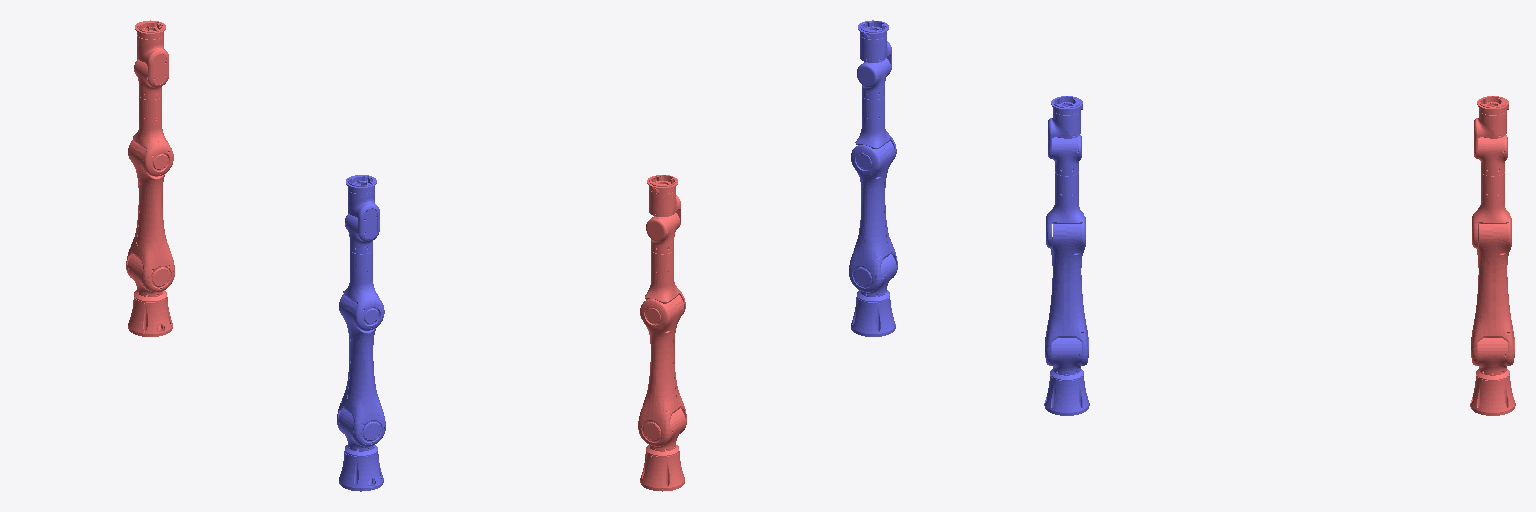
robot.urdf — dual_arm620:
<?xml version="1.0" encoding="utf-8"?>
<robot name="dual_arm620">

  <!-- World link -->
  <link name="world"/>

  <!-- ========== 左臂 (Left Arm) ========== -->
  <!-- 左臂基座 -->
  <link name="left_base_link">
    <visual>
      <origin xyz="0 0 0" rpy="0 0 0" />
      <geometry>
        <mesh filename="package://robot_description/meshes/arm620/base_link.STL" />
      </geometry>
      <material name="">
        <color rgba="0.5 0.5 1 1" />
      </material>
    </visual>
    <collision>
      <origin xyz="0 0 0" rpy="0 0 0" />
      <geometry>
        <mesh filename="package://robot_description/meshes/arm620/base_link.STL" />
      </geometry>
    </collision>
    <inertial>
      <origin xyz="1.87450927250337E-06 0.00181524829320902 0.0292921603078834" rpy="0 0 0" />
      <mass value="0.170880634330369" />
      <inertia
        ixx="0.000229347645280298"
        ixy="1.61599294610908E-08"
        ixz="4.7513827953779E-09"
        iyy="0.000240285227629261"
        iyz="4.75812244440811E-06"
        izz="0.000302923360069409" />
    </inertial>
  </link>

  <link name="left_Link1">
    <visual>
      <origin xyz="0 0 0" rpy="0 0 0" />
      <geometry>
        <mesh filename="package://robot_description/meshes/arm620/Link1.STL" />
      </geometry>
      <material name="">
        <color rgba="0.5 0.5 1 1" />
      </material>
    </visual>
    <collision>
      <origin xyz="0 0 0" rpy="0 0 0" />
      <geometry>
        <mesh filename="package://robot_description/meshes/arm620/Link1.STL" />
      </geometry>
    </collision>
    <inertial>
      <origin xyz="-0.00543360845091959 -1.84239302827209E-07 0.0550553220027922" rpy="0 0 0" />
      <mass value="0.151006149586524" />
      <inertia
        ixx="0.000215056936605856"
        ixy="-2.64732122422687E-09"
        ixz="-6.12933911087815E-06"
        iyy="0.00016424143039212"
        iyz="2.4545362355509E-09"
        izz="0.000153914266842238" />
    </inertial>
  </link>

  <link name="left_Link2">
    <visual>
      <origin xyz="0 0 0" rpy="0 0 0" />
      <geometry>
        <mesh filename="package://robot_description/meshes/arm620/Link2.STL" />
      </geometry>
      <material name="">
        <color rgba="0.5 0.5 1 1" />
      </material>
    </visual>
    <collision>
      <origin xyz="0 0 0" rpy="0 0 0" />
      <geometry>
        <mesh filename="package://robot_description/meshes/arm620/Link2.STL" />
      </geometry>
    </collision>
    <inertial>
      <origin xyz="3.58002762885841E-07 0.137642100574428 -0.0363153154927349" rpy="0 0 0" />
      <mass value="0.343463687955357" />
      <inertia
        ixx="0.00445993608731396"
        ixy="2.50197463653835E-08"
        ixz="-5.37531747791493E-09"
        iyy="0.00025018277432589"
        iyz="3.43689813831552E-05"
        izz="0.00459396075839913" />
    </inertial>
  </link>

  <link name="left_Link3">
    <visual>
      <origin xyz="0 0 0" rpy="0 0 0" />
      <geometry>
        <mesh filename="package://robot_description/meshes/arm620/Link3.STL" />
      </geometry>
      <material name="">
        <color rgba="0.5 0.5 1 1" />
      </material>
    </visual>
    <collision>
      <origin xyz="0 0 0" rpy="0 0 0" />
      <geometry>
        <mesh filename="package://robot_description/meshes/arm620/Link3.STL" />
      </geometry>
    </collision>
    <inertial>
      <origin xyz="1.48206810827003E-06 -0.0510068038969784 -0.0206430915439547" rpy="0 0 0" />
      <mass value="0.13198857635385" />
      <inertia
        ixx="0.000162762137088808"
        ixy="1.41413208376811E-08"
        ixz="-1.34298095947657E-09"
        iyy="0.000116327773462969"
        iyz="-3.06018943581844E-05"
        izz="0.000155122779958364" />
    </inertial>
  </link>

  <link name="left_Link4">
    <collision>
      <origin xyz="0 0 0" rpy="0 0 0" />
      <geometry>
        <mesh filename="package://robot_description/meshes/arm620/Link4.STL" />
      </geometry>
    </collision>
    <inertial>
      <origin xyz="-6.02521247008215E-05 7.99748324407948E-06 0.0453780771462012" rpy="0 0 0" />
      <mass value="0.0765381851810229" />
      <inertia
        ixx="6.04592142795382E-05"
        ixy="2.67147905680342E-09"
        ixz="-4.08931227982265E-06"
        iyy="5.96855208658282E-05"
        iyz="7.33475383624008E-09"
        izz="5.30534683558546E-05" />
    </inertial>
    <visual>
      <origin xyz="0 0 0" rpy="0 0 0" />
      <geometry>
        <mesh filename="package://robot_description/meshes/arm620/Link4.STL" />
      </geometry>
      <material name="">
        <color rgba="0.5 0.5 1 1" />
      </material>
    </visual>
  </link>

  <link name="left_Link5">
    <visual>
      <origin xyz="0 0 0" rpy="0 0 0" />
      <geometry>
        <mesh filename="package://robot_description/meshes/arm620/Link5.STL" />
      </geometry>
      <material  name="">
        <color rgba="0.5 0.5 1 1" />
      </material>
    </visual>
    <collision>
      <origin xyz="0 0 0" rpy="0 0 0" />
      <geometry>
        <mesh filename="package://robot_description/meshes/arm620/Link5.STL" />
      </geometry>
    </collision>
    <inertial>
      <origin xyz="-0.0520592124509015 -2.62557740618274E-06 -0.0198554732405326" rpy="0 0 0" />
      <mass value="0.0788266395013992" />
      <inertia
        ixx="6.87608587505673E-05"
        ixy="-1.27953066866412E-07"
        ixz="-2.0529870699655E-05"
        iyy="9.21461269028329E-05"
        iyz="2.70889288147051E-09"
        izz="8.42321668969337E-05" />
    </inertial>
  </link>

  <link name="left_Link6">
    <visual>
      <origin xyz="0 0 0" rpy="0 0 0" />
      <geometry>
        <mesh filename="package://robot_description/meshes/arm620/Link6.STL" />
      </geometry>
      <material name="">
        <color rgba="0.5 0.5 1 1" />
      </material>
    </visual>
    <collision>
      <origin xyz="0 0 0" rpy="0 0 0" />
      <geometry>
        <mesh filename="package://robot_description/meshes/arm620/Link6.STL" />
      </geometry>
    </collision>
    <inertial>
      <origin xyz="-0.00364670394665961 0.00151801994573188 0.0107785859589165" rpy="0 0 0" />
      <mass value="0.0321450880318068" />
      <inertia
        ixx="1.28602924359454E-05"
        ixy="-1.21512878921806E-07"
        ixz="2.23984093399708E-07"
        iyy="1.33081087923213E-05"
        iyz="-6.82451208171747E-08"
        izz="2.41834039786456E-05" />
    </inertial>
  </link>

  <!-- 左臂关节连接 -->
  <joint name="left_base_joint" type="fixed">
      <parent link="world"/>
      <child link="left_base_link"/>
      <!-- 左臂位于Y轴负方向，距离world坐标系0.5米 -->
      <origin xyz="0 -0.5 0" rpy="0 0 0" />
      <axis xyz="0 0 1" />
  </joint>

  <joint name="left_joint1" type="revolute">
    <origin xyz="0 0 0.084" rpy="0 0 -1.5708" />
    <parent link="left_base_link" />
    <child link="left_Link1" />
    <axis xyz="0 0 1" />
    <limit lower="-2.9670" upper="2.9670" effort="49" velocity="3.14" />
  </joint>

  <joint name="left_joint2" type="revolute">
    <origin xyz="0.035 0 0.06875" rpy="1.5708 0 1.5708" />
    <parent link="left_Link1" />
    <child link="left_Link2" />
    <axis xyz="0 0 1" />
    <limit lower="-1.5708" upper="1.5708" effort="49" velocity="3.14" />
  </joint>

  <joint name="left_joint3" type="revolute">
    <origin xyz="0 0.30025 -0.00093497" rpy="0 0 3.1416" />
    <parent link="left_Link2" />
    <child link="left_Link3" />
    <axis xyz="0 0 1" />
    <limit lower="-1.5708" upper="1.5708" effort="49" velocity="3.14" />
  </joint>

  <joint name="left_joint4" type="revolute">
    <origin xyz="0 -0.15558 -0.03403" rpy="1.5708 -1.5708 0" />
    <parent link="left_Link3" />
    <child link="left_Link4" />
    <axis xyz="0 0 1" />
    <limit lower="-2.9670" upper="2.9670" effort="9" velocity="3.14" />
  </joint>

  <joint name="left_joint5" type="revolute">
    <origin xyz="0.034548 2.0477E-05 0.064223" rpy="9.5457E-05 1.5708 0.00060723" />
    <parent link="left_Link4" />
    <child link="left_Link5" />
    <axis xyz="0 0 1" />
    <limit lower="-1.5708" upper="1.5708" effort="9" velocity="3.14" />
  </joint>

  <joint name="left_joint6" type="revolute">
    <origin xyz="-0.095552 0 -0.034587" rpy="1.5708 -1.5703 -1.5708" />
    <parent link="left_Link5" />
    <child link="left_Link6" />
    <axis xyz="0 0 1" />
    <limit lower="-2.9670" upper="2.9670" effort="9" velocity="3.14" />
  </joint>


  <!-- ========== 右臂 (Right Arm) ========== -->
  <!-- 右臂基座 -->
  <link name="right_base_link">
    <visual>
      <origin xyz="0 0 0" rpy="0 0 0" />
      <geometry>
        <mesh filename="package://robot_description/meshes/arm620/base_link.STL" />
      </geometry>
      <material name="">
        <color rgba="1 0.5 0.5 1" />
      </material>
    </visual>
    <collision>
      <origin xyz="0 0 0" rpy="0 0 0" />
      <geometry>
        <mesh filename="package://robot_description/meshes/arm620/base_link.STL" />
      </geometry>
    </collision>
    <inertial>
      <origin xyz="1.87450927250337E-06 0.00181524829320902 0.0292921603078834" rpy="0 0 0" />
      <mass value="0.170880634330369" />
      <inertia
        ixx="0.000229347645280298"
        ixy="1.61599294610908E-08"
        ixz="4.7513827953779E-09"
        iyy="0.000240285227629261"
        iyz="4.75812244440811E-06"
        izz="0.000302923360069409" />
    </inertial>
  </link>

  <link name="right_Link1">
    <visual>
      <origin xyz="0 0 0" rpy="0 0 0" />
      <geometry>
        <mesh filename="package://robot_description/meshes/arm620/Link1.STL" />
      </geometry>
      <material name="">
        <color rgba="1 0.5 0.5 1" />
      </material>
    </visual>
    <collision>
      <origin xyz="0 0 0" rpy="0 0 0" />
      <geometry>
        <mesh filename="package://robot_description/meshes/arm620/Link1.STL" />
      </geometry>
    </collision>
    <inertial>
      <origin xyz="-0.00543360845091959 -1.84239302827209E-07 0.0550553220027922" rpy="0 0 0" />
      <mass value="0.151006149586524" />
      <inertia
        ixx="0.000215056936605856"
        ixy="-2.64732122422687E-09"
        ixz="-6.12933911087815E-06"
        iyy="0.00016424143039212"
        iyz="2.4545362355509E-09"
        izz="0.000153914266842238" />
    </inertial>
  </link>

  <link name="right_Link2">
    <visual>
      <origin xyz="0 0 0" rpy="0 0 0" />
      <geometry>
        <mesh filename="package://robot_description/meshes/arm620/Link2.STL" />
      </geometry>
      <material name="">
        <color rgba="1 0.5 0.5 1" />
      </material>
    </visual>
    <collision>
      <origin xyz="0 0 0" rpy="0 0 0" />
      <geometry>
        <mesh filename="package://robot_description/meshes/arm620/Link2.STL" />
      </geometry>
    </collision>
    <inertial>
      <origin xyz="3.58002762885841E-07 0.137642100574428 -0.0363153154927349" rpy="0 0 0" />
      <mass value="0.343463687955357" />
      <inertia
        ixx="0.00445993608731396"
        ixy="2.50197463653835E-08"
        ixz="-5.37531747791493E-09"
        iyy="0.00025018277432589"
        iyz="3.43689813831552E-05"
        izz="0.00459396075839913" />
    </inertial>
  </link>

  <link name="right_Link3">
    <visual>
      <origin xyz="0 0 0" rpy="0 0 0" />
      <geometry>
        <mesh filename="package://robot_description/meshes/arm620/Link3.STL" />
      </geometry>
      <material name="">
        <color rgba="1 0.5 0.5 1" />
      </material>
    </visual>
    <collision>
      <origin xyz="0 0 0" rpy="0 0 0" />
      <geometry>
        <mesh filename="package://robot_description/meshes/arm620/Link3.STL" />
      </geometry>
    </collision>
    <inertial>
      <origin xyz="1.48206810827003E-06 -0.0510068038969784 -0.0206430915439547" rpy="0 0 0" />
      <mass value="0.13198857635385" />
      <inertia
        ixx="0.000162762137088808"
        ixy="1.41413208376811E-08"
        ixz="-1.34298095947657E-09"
        iyy="0.000116327773462969"
        iyz="-3.06018943581844E-05"
        izz="0.000155122779958364" />
    </inertial>
  </link>

  <link name="right_Link4">
    <collision>
      <origin xyz="0 0 0" rpy="0 0 0" />
      <geometry>
        <mesh filename="package://robot_description/meshes/arm620/Link4.STL" />
      </geometry>
    </collision>
    <inertial>
      <origin xyz="-6.02521247008215E-05 7.99748324407948E-06 0.0453780771462012" rpy="0 0 0" />
      <mass value="0.0765381851810229" />
      <inertia
        ixx="6.04592142795382E-05"
        ixy="2.67147905680342E-09"
        ixz="-4.08931227982265E-06"
        iyy="5.96855208658282E-05"
        iyz="7.33475383624008E-09"
        izz="5.30534683558546E-05" />
    </inertial>
    <visual>
      <origin xyz="0 0 0" rpy="0 0 0" />
      <geometry>
        <mesh filename="package://robot_description/meshes/arm620/Link4.STL" />
      </geometry>
      <material name="">
        <color rgba="1 0.5 0.5 1" />
      </material>
    </visual>
  </link>

  <link name="right_Link5">
    <visual>
      <origin xyz="0 0 0" rpy="0 0 0" />
      <geometry>
        <mesh filename="package://robot_description/meshes/arm620/Link5.STL" />
      </geometry>
      <material  name="">
        <color rgba="1 0.5 0.5 1" />
      </material>
    </visual>
    <collision>
      <origin xyz="0 0 0" rpy="0 0 0" />
      <geometry>
        <mesh filename="package://robot_description/meshes/arm620/Link5.STL" />
      </geometry>
    </collision>
    <inertial>
      <origin xyz="-0.0520592124509015 -2.62557740618274E-06 -0.0198554732405326" rpy="0 0 0" />
      <mass value="0.0788266395013992" />
      <inertia
        ixx="6.87608587505673E-05"
        ixy="-1.27953066866412E-07"
        ixz="-2.0529870699655E-05"
        iyy="9.21461269028329E-05"
        iyz="2.70889288147051E-09"
        izz="8.42321668969337E-05" />
    </inertial>
  </link>

  <link name="right_Link6">
    <visual>
      <origin xyz="0 0 0" rpy="0 0 0" />
      <geometry>
        <mesh filename="package://robot_description/meshes/arm620/Link6.STL" />
      </geometry>
      <material name="">
        <color rgba="1 0.5 0.5 1" />
      </material>
    </visual>
    <collision>
      <origin xyz="0 0 0" rpy="0 0 0" />
      <geometry>
        <mesh filename="package://robot_description/meshes/arm620/Link6.STL" />
      </geometry>
    </collision>
    <inertial>
      <origin xyz="-0.00364670394665961 0.00151801994573188 0.0107785859589165" rpy="0 0 0" />
      <mass value="0.0321450880318068" />
      <inertia
        ixx="1.28602924359454E-05"
        ixy="-1.21512878921806E-07"
        ixz="2.23984093399708E-07"
        iyy="1.33081087923213E-05"
        iyz="-6.82451208171747E-08"
        izz="2.41834039786456E-05" />
    </inertial>
  </link>

  <!-- 右臂关节连接 -->
  <joint name="right_base_joint" type="fixed">
      <parent link="world"/>
      <child link="right_base_link"/>
      <!-- 右臂位于Y轴正方向，距离world坐标系0.5米 -->
      <origin xyz="0 0.5 0" rpy="0 0 0" />
      <axis xyz="0 0 1" />
  </joint>

  <joint name="right_joint1" type="revolute">
    <origin xyz="0 0 0.084" rpy="0 0 -1.5708" />
    <parent link="right_base_link" />
    <child link="right_Link1" />
    <axis xyz="0 0 1" />
    <limit lower="-2.9670" upper="2.9670" effort="49" velocity="3.14" />
  </joint>

  <joint name="right_joint2" type="revolute">
    <origin xyz="0.035 0 0.06875" rpy="1.5708 0 1.5708" />
    <parent link="right_Link1" />
    <child link="right_Link2" />
    <axis xyz="0 0 1" />
    <limit lower="-1.5708" upper="1.5708" effort="49" velocity="3.14" />
  </joint>

  <joint name="right_joint3" type="revolute">
    <origin xyz="0 0.30025 -0.00093497" rpy="0 0 3.1416" />
    <parent link="right_Link2" />
    <child link="right_Link3" />
    <axis xyz="0 0 1" />
    <limit lower="-1.5708" upper="1.5708" effort="49" velocity="3.14" />
  </joint>

  <joint name="right_joint4" type="revolute">
    <origin xyz="0 -0.15558 -0.03403" rpy="1.5708 -1.5708 0" />
    <parent link="right_Link3" />
    <child link="right_Link4" />
    <axis xyz="0 0 1" />
    <limit lower="-2.9670" upper="2.9670" effort="9" velocity="3.14" />
  </joint>

  <joint name="right_joint5" type="revolute">
    <origin xyz="0.034548 2.0477E-05 0.064223" rpy="9.5457E-05 1.5708 0.00060723" />
    <parent link="right_Link4" />
    <child link="right_Link5" />
    <axis xyz="0 0 1" />
    <limit lower="-1.5708" upper="1.5708" effort="9" velocity="3.14" />
  </joint>

  <joint name="right_joint6" type="revolute">
    <origin xyz="-0.095552 0 -0.034587" rpy="1.5708 -1.5703 -1.5708" />
    <parent link="right_Link5" />
    <child link="right_Link6" />
    <axis xyz="0 0 1" />
    <limit lower="-2.9670" upper="2.9670" effort="9" velocity="3.14" />
  </joint>

</robot>

--- Facts derived from the render (not from the file) ---
Views: 3 orthographic renders of the robot side by side, from view 1: azimuth 30°, elevation 25°; view 2: azimuth 150°, elevation 25°; view 3: azimuth 270°, elevation 25°.
Model dual_arm620 with 15 links and 14 joints (12 revolute, 2 fixed), rooted at world, posed every joint at zero.
Links seen in each view (by area): view 1: right_Link2, left_Link2, left_Link3, right_Link3, right_base_link, left_base_link, left_Link5, right_Link5, left_Link1, right_Link1, right_Link4, left_Link4; view 2: left_Link2, right_Link2, left_base_link, right_base_link, right_Link3, left_Link3, left_Link4, right_Link4, left_Link5, right_Link5, right_Link1, left_Link1; view 3: right_Link2, left_Link2, left_Link3, right_Link3, right_base_link, left_base_link, left_Link1, right_Link1, right_Link4, left_Link4, left_Link5, right_Link5.
Link boxes in pixels (x1=…): right_Link2: x1=126, y1=140, x2=174, y2=292; left_Link2: x1=337, y1=294, x2=385, y2=446; left_Link3: x1=343, y1=251, x2=384, y2=330; right_Link3: x1=133, y1=97, x2=173, y2=176; right_base_link: x1=128, y1=297, x2=172, y2=336; left_base_link: x1=339, y1=451, x2=383, y2=491; left_Link5: x1=348, y1=185, x2=379, y2=241; right_Link5: x1=137, y1=30, x2=168, y2=87; left_Link1: x1=338, y1=408, x2=377, y2=456; right_Link1: x1=127, y1=254, x2=166, y2=301; right_Link4: x1=134, y1=59, x2=161, y2=99; left_Link4: x1=345, y1=213, x2=372, y2=253; left_Link2: x1=849, y1=141, x2=897, y2=292; right_Link2: x1=638, y1=295, x2=686, y2=446; left_base_link: x1=851, y1=297, x2=895, y2=336; right_base_link: x1=640, y1=451, x2=684, y2=491; right_Link3: x1=645, y1=251, x2=685, y2=314; left_Link3: x1=855, y1=97, x2=896, y2=158; left_Link4: x1=857, y1=58, x2=890, y2=99; right_Link4: x1=646, y1=213, x2=679, y2=253; left_Link5: x1=860, y1=35, x2=891, y2=73; right_Link5: x1=649, y1=190, x2=680, y2=226; right_Link1: x1=646, y1=408, x2=685, y2=456; left_Link1: x1=857, y1=254, x2=896, y2=301; right_Link2: x1=1471, y1=216, x2=1514, y2=365; left_Link2: x1=1045, y1=216, x2=1088, y2=365; left_Link3: x1=1046, y1=172, x2=1083, y2=248; right_Link3: x1=1472, y1=172, x2=1509, y2=248; right_base_link: x1=1470, y1=375, x2=1515, y2=415; left_base_link: x1=1044, y1=375, x2=1089, y2=415; left_Link1: x1=1050, y1=338, x2=1083, y2=380; right_Link1: x1=1476, y1=338, x2=1509, y2=380; right_Link4: x1=1478, y1=135, x2=1507, y2=175; left_Link4: x1=1052, y1=135, x2=1081, y2=175; left_Link5: x1=1048, y1=106, x2=1080, y2=158; right_Link5: x1=1474, y1=106, x2=1506, y2=158.
Bounding box of the posed robot: 0.1059 × 1.11 × 0.7894 m (x, y, z).
14 mesh visuals loaded from 7 distinct referenced files (7 binary STL).
